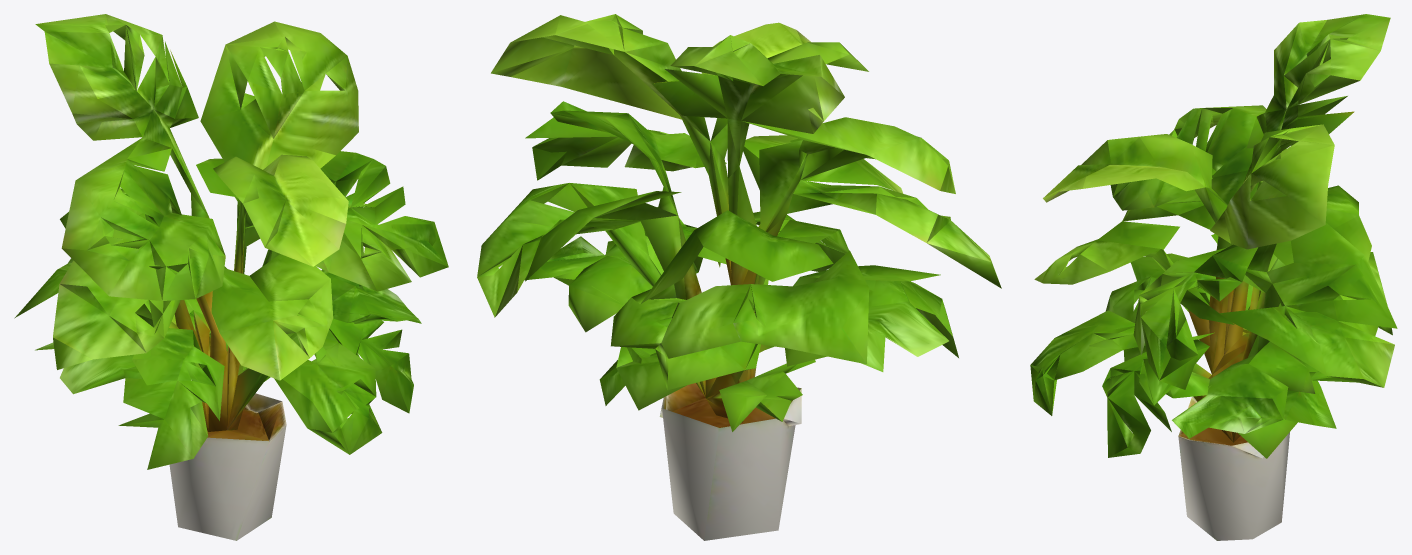
The model's file is junglePlant.glb.
The picture shows the model from 3 angles, left to right: view 1: azimuth 30°, elevation 25°; view 2: azimuth 150°, elevation 25°; view 3: azimuth 270°, elevation 25°; orthographic projection. The views are drawn at different scales.
Visible parts, largest first — view 1: model; view 2: model; view 3: model.
Part boxes in pixels (x1=…): model: x1=14, y1=14, x2=448, y2=540; model: x1=477, y1=14, x2=1001, y2=540; model: x1=1030, y1=14, x2=1397, y2=540.
Bounding box in the file's own units: 1.66 × 1.89 × 1.37.
1 material, 1 textured.
